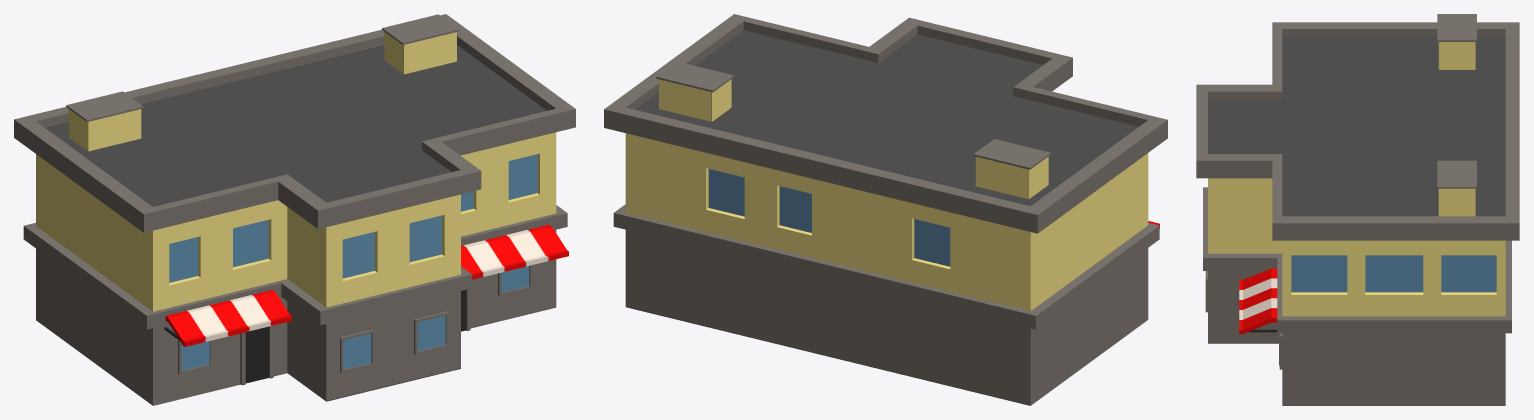
File: CityBuilding10.glb
3 views of the same model, side by side, from view 1: azimuth 30°, elevation 25°; view 2: azimuth 150°, elevation 25°; view 3: azimuth 270°, elevation 25° (orthographic). The views are drawn at different scales.
Parts seen in each view (by area): view 1: CityBuilding10; view 2: CityBuilding10; view 3: CityBuilding10.
Part boxes in pixels (x1,y1,x2,y2): CityBuilding10: [14, 14, 575, 405]; CityBuilding10: [604, 14, 1167, 405]; CityBuilding10: [1196, 14, 1519, 405].
Size of what is drawn, in the model's own units: 13.83 by 6.8 by 9.41.
Materials: 1 (1 with a texture image).
